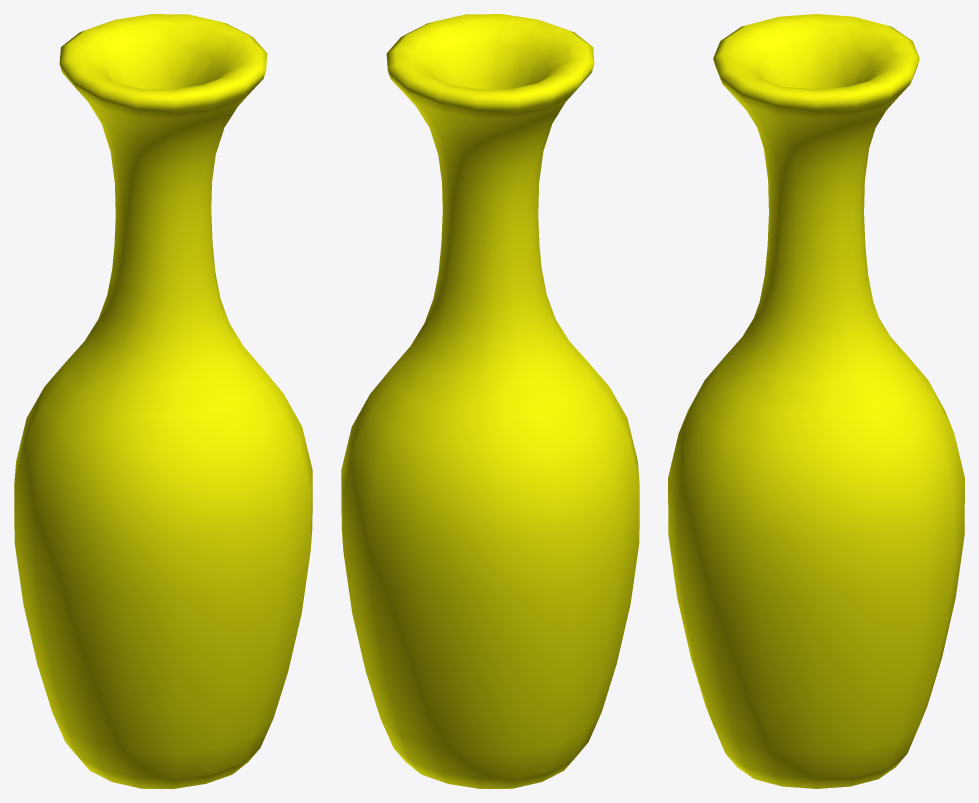
The model's file is Vase2.fbx.
3 views of the same model, side by side, from view 1: azimuth 30°, elevation 25°; view 2: azimuth 150°, elevation 25°; view 3: azimuth 270°, elevation 25° (orthographic).
Visible parts, largest first — view 1: Vase2; view 2: Vase2; view 3: Vase2.
Boxes of the visible parts, <box> form: Vase2: <box>14,14,312,788</box>; Vase2: <box>341,14,639,788</box>; Vase2: <box>668,14,964,788</box>.
Bounding box in the file's own units: 0.2418 × 0.2418 × 0.6341.
